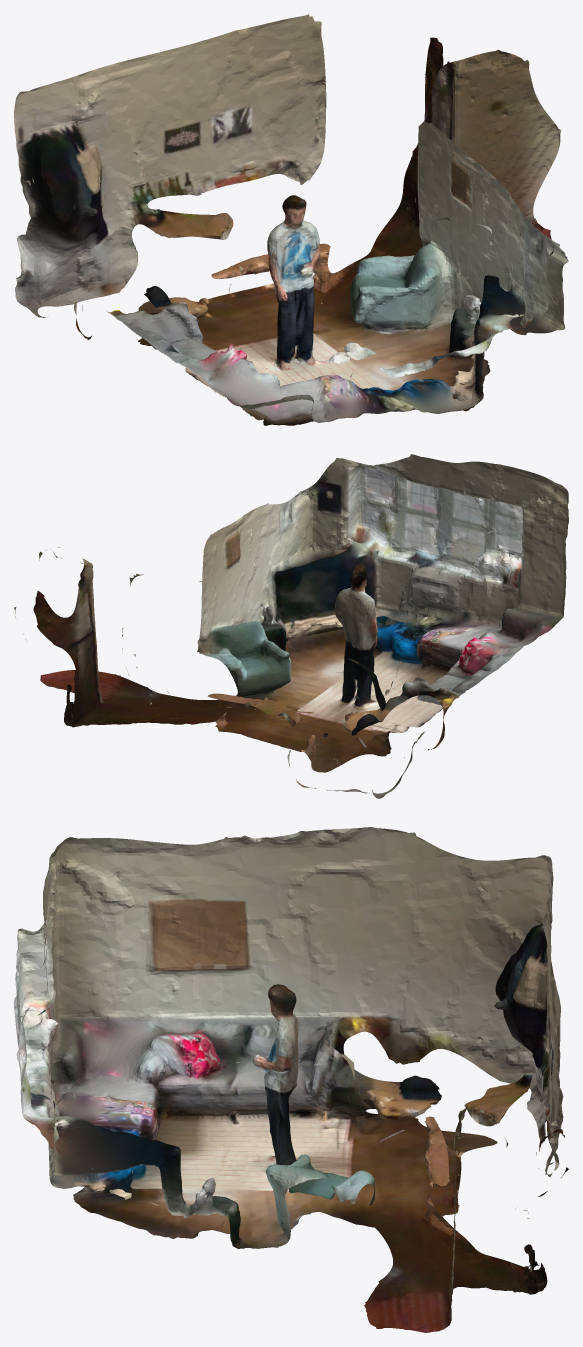
3 views of the same model, one above another, from view 1: azimuth 30°, elevation 25°; view 2: azimuth 150°, elevation 25°; view 3: azimuth 270°, elevation 25° (orthographic). The views are drawn at different scales.
Size of the model in its own units: 5.75 by 2.68 by 5.11.
1 material, 1 textured.
